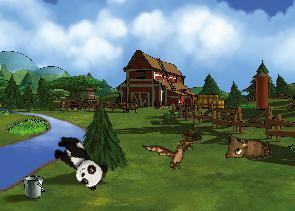eagle: (142, 129, 198, 178)
owl: (221, 128, 272, 163)
panda: (46, 130, 112, 193)
